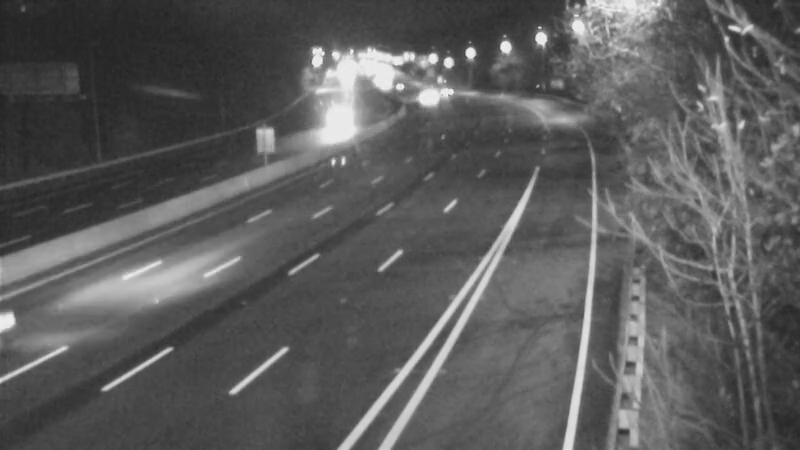vehicle: (419, 66, 469, 116), (398, 73, 448, 123), (307, 98, 357, 148)
